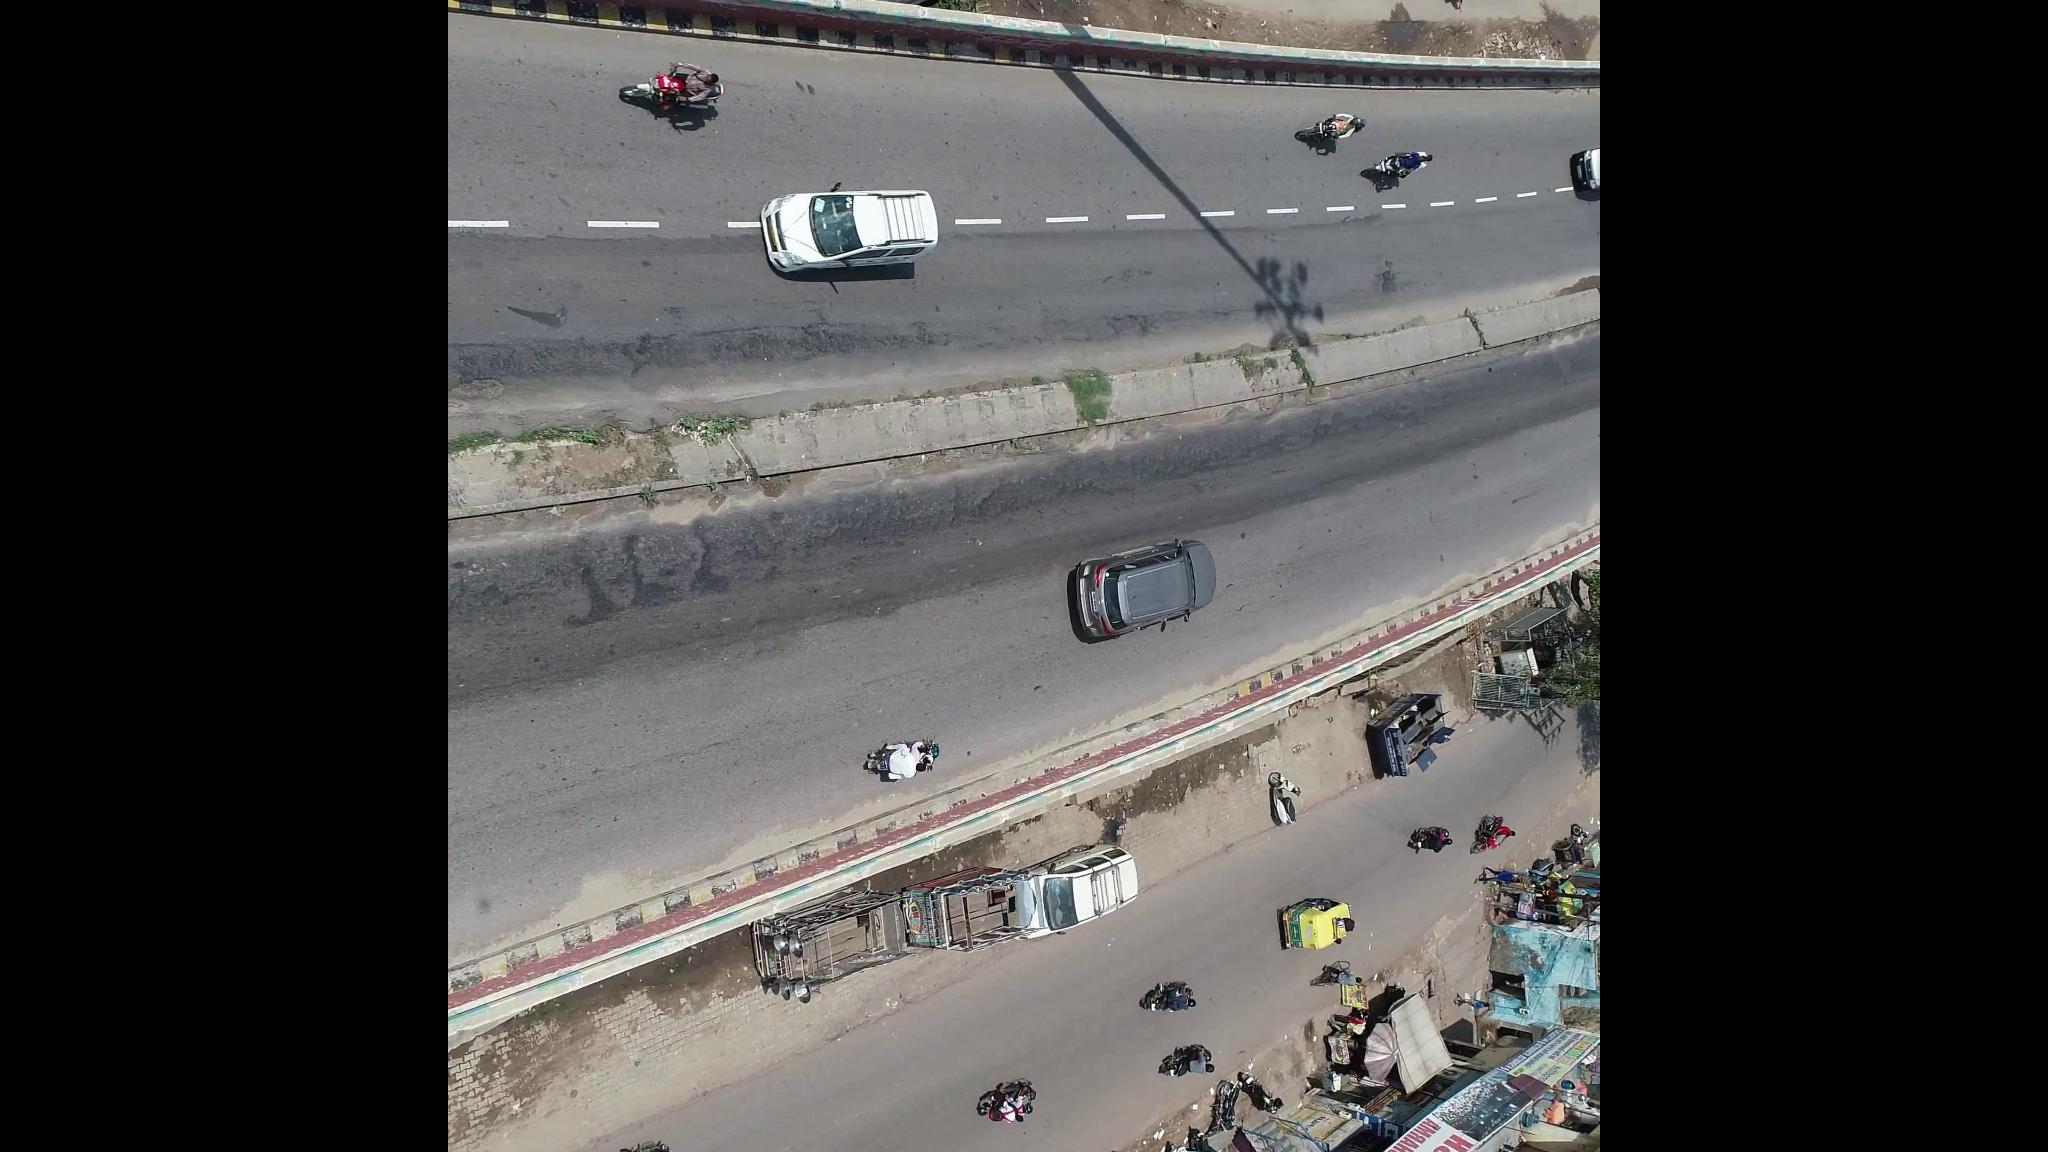Ravelling: (615, 518, 840, 606), (715, 318, 933, 377), (893, 475, 1061, 536), (497, 325, 706, 371)
